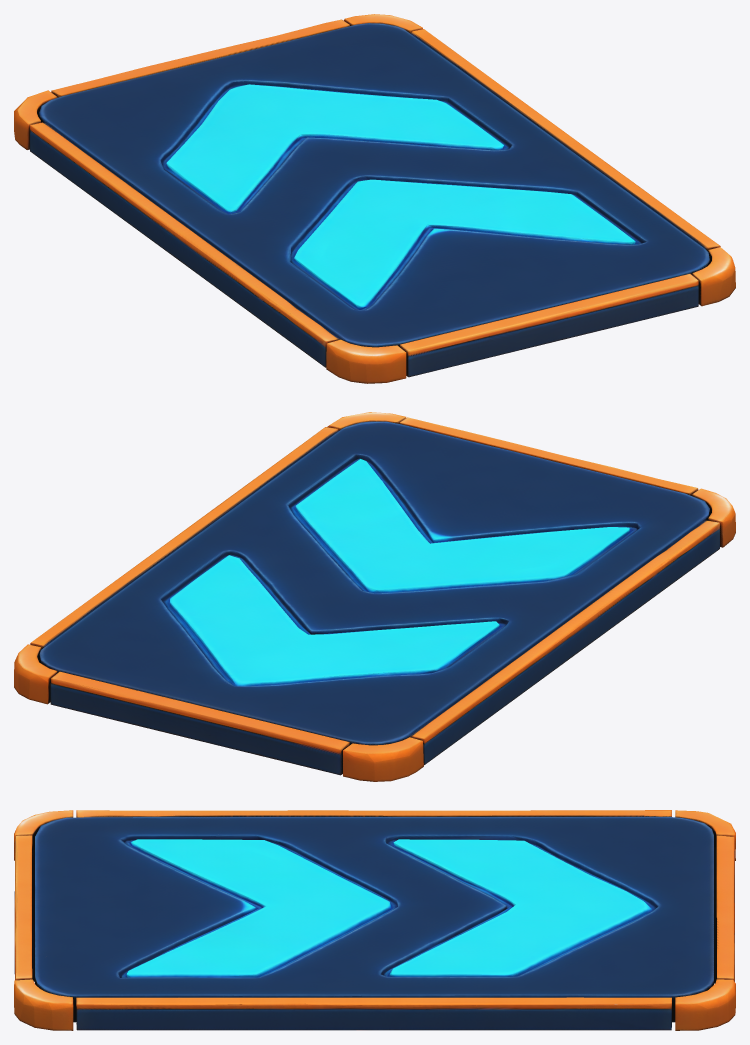
3 renders of one model, top to bottom at view 1: azimuth 30°, elevation 25°; view 2: azimuth 150°, elevation 25°; view 3: azimuth 270°, elevation 25°, orthographic.
Visible parts, largest first — view 1: model; view 2: model; view 3: model.
Boxes of the visible parts, box(x1,y1,x2,y2) form: model: box(14, 14, 735, 383); model: box(14, 412, 735, 781); model: box(14, 810, 735, 1030).
Bounding box in the file's own units: 1.21 × 0.0799 × 1.9.
Materials: 1 (1 with a texture image).
